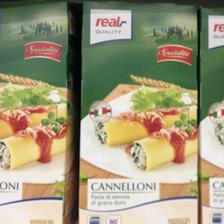Nudeln: (78, 0, 198, 222), (0, 0, 76, 223)
